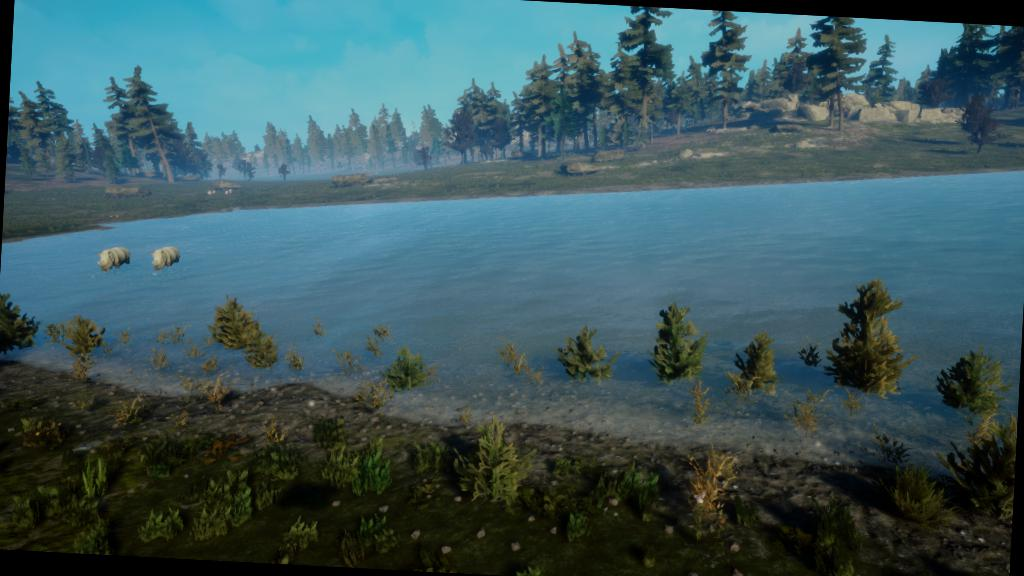rhinoceros: (95, 241, 134, 276), (146, 241, 180, 276)
